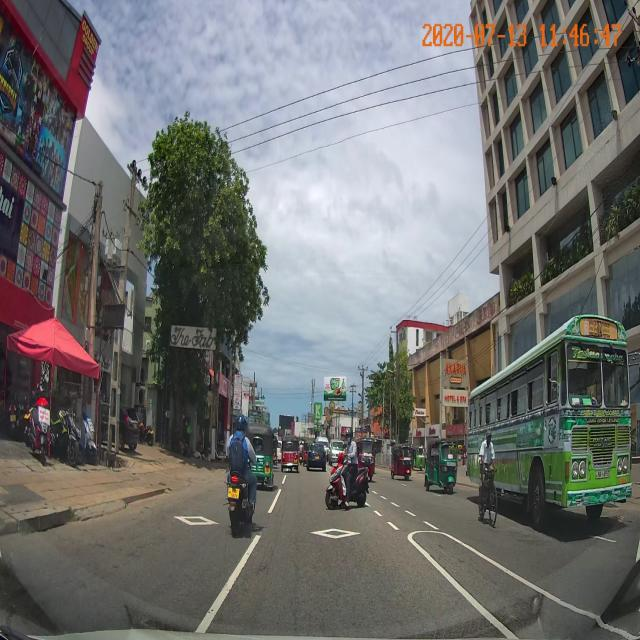Romb: (309, 528, 363, 539), (172, 515, 221, 525)
